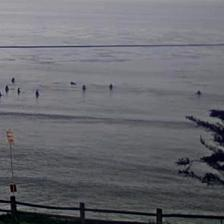surfer: (4, 85, 8, 93), (35, 90, 39, 98), (82, 84, 87, 90), (196, 90, 201, 95), (17, 88, 21, 94), (70, 81, 76, 85), (109, 84, 113, 90), (11, 78, 15, 83), (0, 90, 2, 97)
